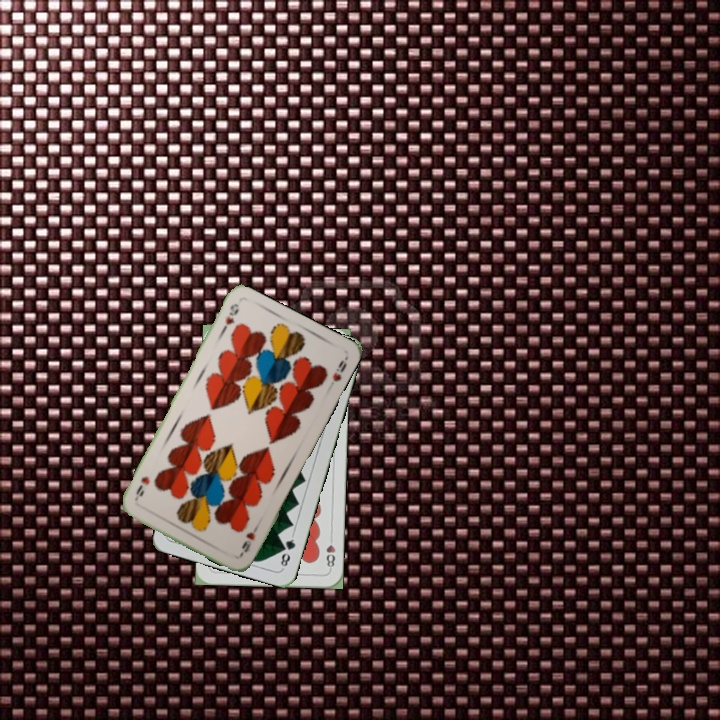G8: (276, 531, 298, 571)
H8: (322, 532, 338, 572)
H9: (236, 520, 262, 558), (217, 299, 241, 336)
